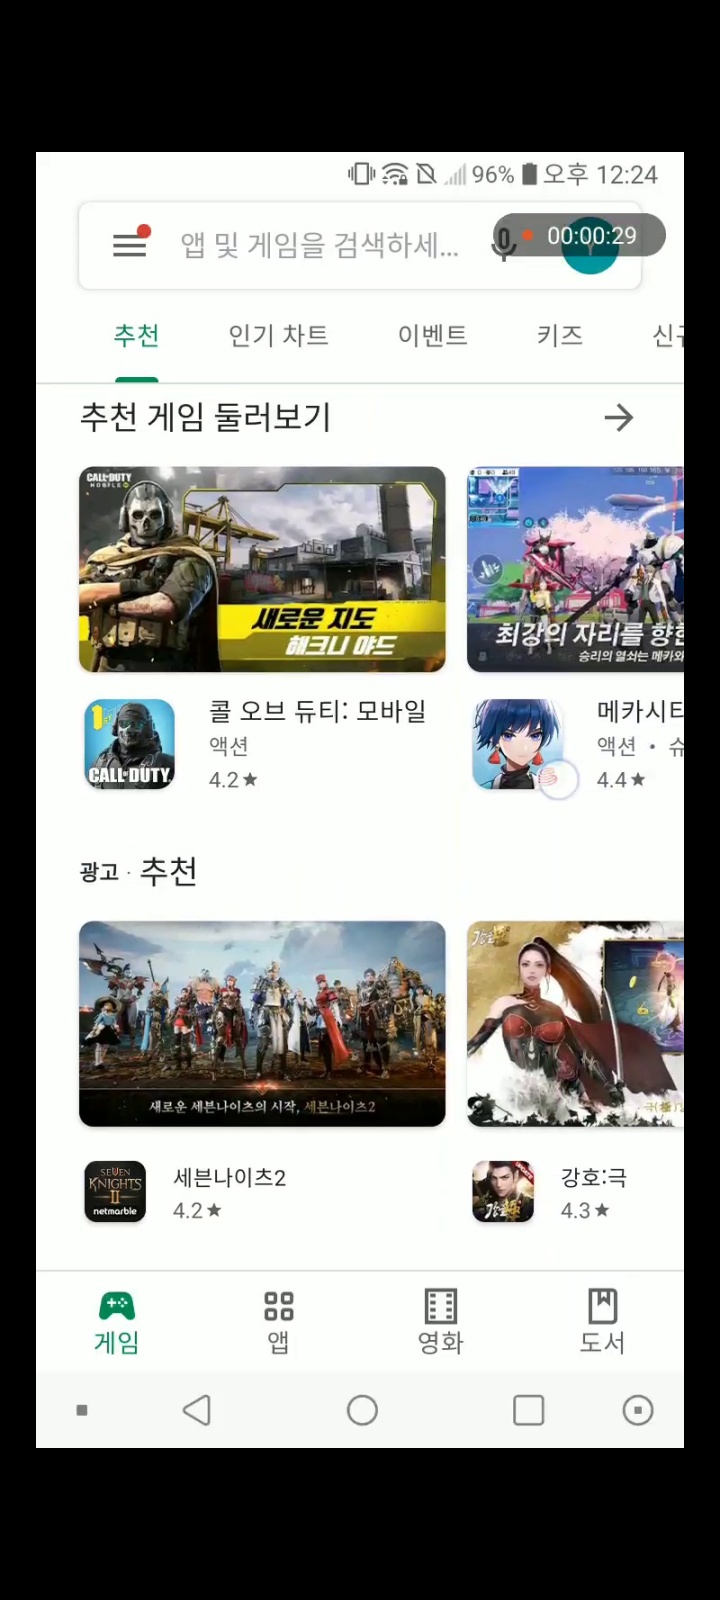Cursor: (538, 758, 583, 803)
